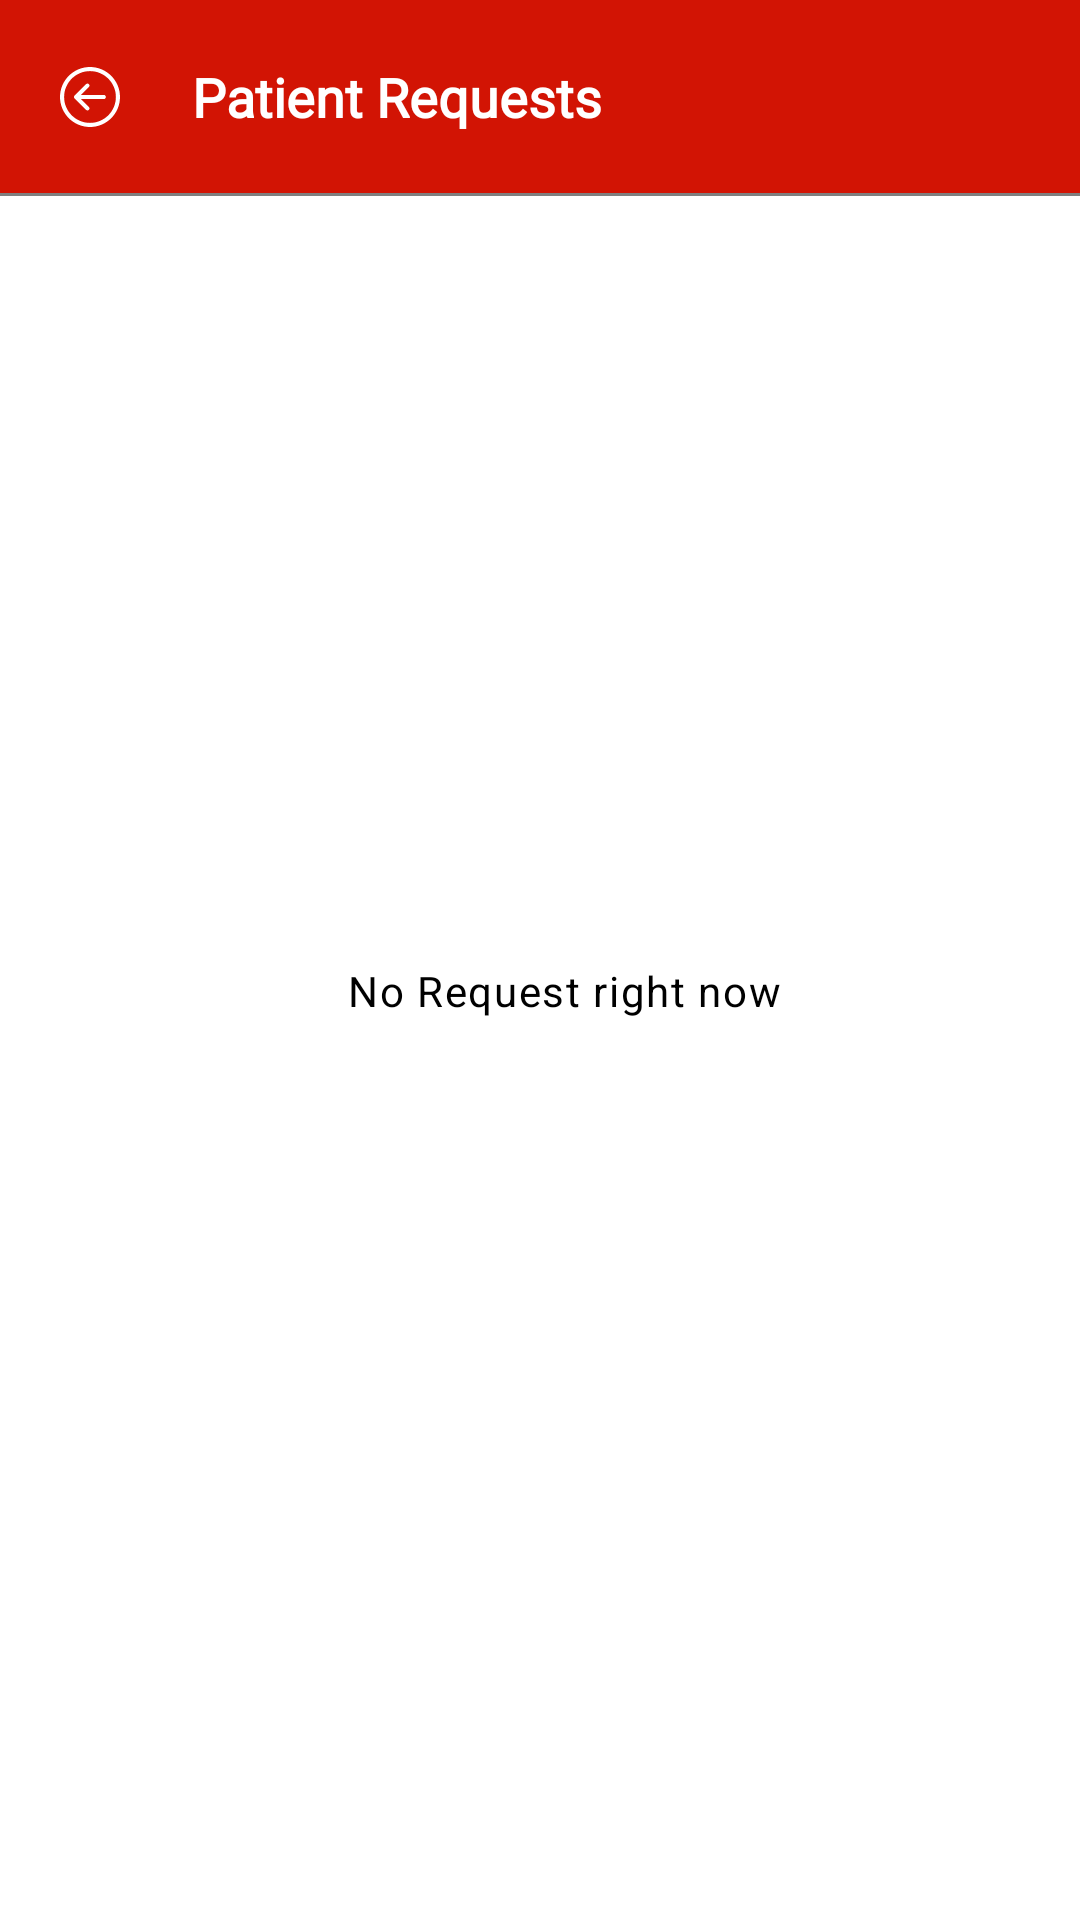

Icons on this 1080x1920 Android screen, each with its box as (x1, y1, x2, y2):
back: (60, 67, 120, 127)
